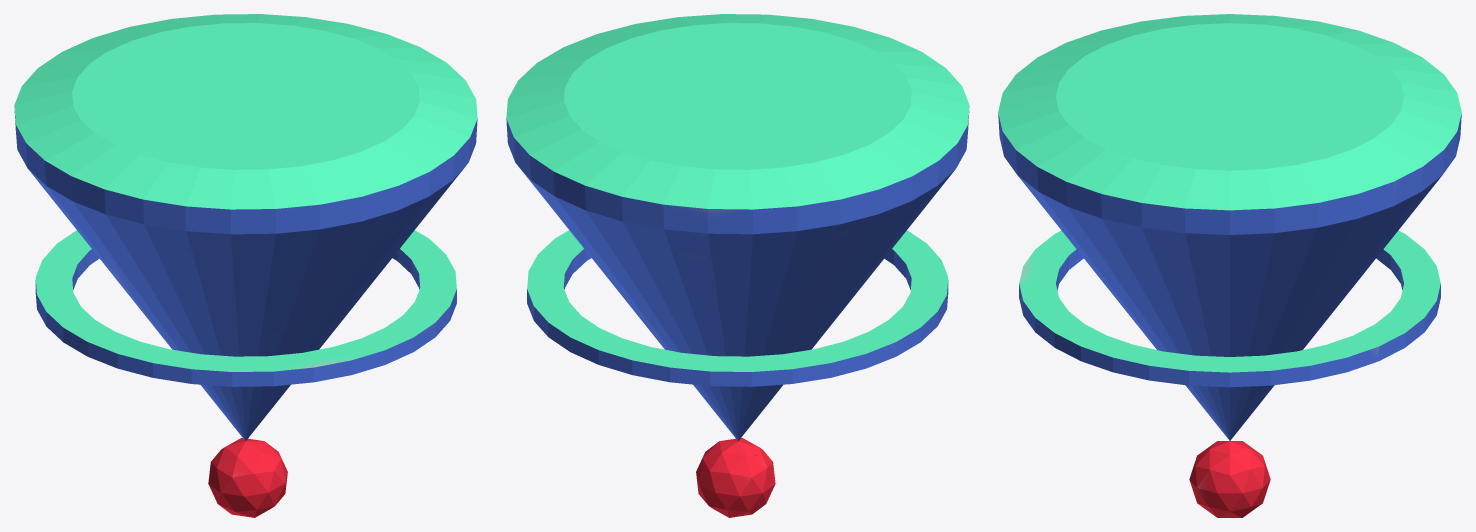
The model's file is PlatformExport3.fbx.
3 renders of one model, left to right at view 1: azimuth 30°, elevation 25°; view 2: azimuth 150°, elevation 25°; view 3: azimuth 270°, elevation 25°, orthographic.
Visible parts, largest first — view 1: Cone; view 2: Cone; view 3: Cone.
Boxes of the visible parts, x1,y1,x2,y2 form: Cone: [14, 14, 477, 517]; Cone: [506, 14, 969, 517]; Cone: [998, 14, 1461, 517].
Size of the model in its own units: 184 by 183 by 184.
Materials: 1 (1 with a texture image).
